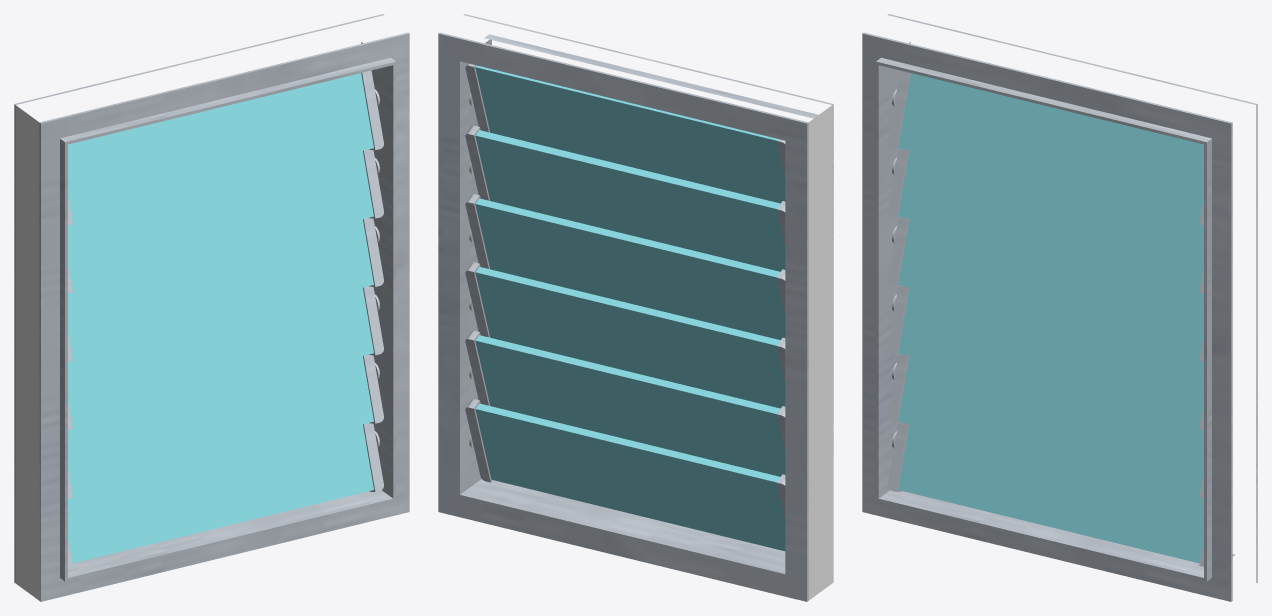
Rendered from Louvered-new.glb.
3 views of the same model, side by side, from view 1: azimuth 30°, elevation 25°; view 2: azimuth 150°, elevation 25°; view 3: azimuth 330°, elevation 25° (orthographic).
Visible parts, largest first — view 1: Mesh37 Ghiera_finestra_porta1 Model, Mesh38 Model, Mesh33 Vetro_porta11 Vetro_porta_completo11 Group1 Model, Mesh36 Vetro_porta12 Vetro_porta_completo12 Group1 Model, Mesh9 Vetro_porta3 Vetro_porta_completo3 Group1 Model, Mesh3 Vetro_porta1 Vetro_porta_completo1 Group1 Model, Mesh12 Vetro_porta4 Vetro_porta_completo4 Group1 Model, Mesh27 Vetro_porta9 Vetro_porta_completo9 Group1 Model, Mesh18 Vetro_porta6 Vetro_porta_completo6 Group1 Model, Mesh15 Vetro_porta5 Vetro_porta_completo5 Group1 Model, Mesh21 Vetro_porta7 Vetro_porta_completo7 Group1 Model, Mesh24 Vetro_porta8 Vetro_porta_completo8 Group1 Model (+8 smaller); view 2: Mesh37 Ghiera_finestra_porta1 Model, Mesh38 Model, Mesh9 Vetro_porta3 Vetro_porta_completo3 Group1 Model, Mesh6 Vetro_porta2 Vetro_porta_completo2 Group1 Model, Mesh3 Vetro_porta1 Vetro_porta_completo1 Group1 Model, Mesh12 Vetro_porta4 Vetro_porta_completo4 Group1 Model, Mesh18 Vetro_porta6 Vetro_porta_completo6 Group1 Model, Mesh27 Vetro_porta9 Vetro_porta_completo9 Group1 Model, Mesh24 Vetro_porta8 Vetro_porta_completo8 Group1 Model, Mesh21 Vetro_porta7 Vetro_porta_completo7 Group1 Model, Mesh30 Vetro_porta10 Vetro_porta_completo10 Group1 Model, Mesh15 Vetro_porta5 Vetro_porta_completo5 Group1 Model (+8 smaller); view 3: Mesh37 Ghiera_finestra_porta1 Model, Mesh36 Vetro_porta12 Vetro_porta_completo12 Group1 Model, Mesh33 Vetro_porta11 Vetro_porta_completo11 Group1 Model, Mesh6 Vetro_porta2 Vetro_porta_completo2 Group1 Model, Mesh15 Vetro_porta5 Vetro_porta_completo5 Group1 Model, Mesh30 Vetro_porta10 Vetro_porta_completo10 Group1 Model, Mesh24 Vetro_porta8 Vetro_porta_completo8 Group1 Model, Mesh21 Vetro_porta7 Vetro_porta_completo7 Group1 Model, Mesh12 Vetro_porta4 Vetro_porta_completo4 Group1 Model, Mesh18 Vetro_porta6 Vetro_porta_completo6 Group1 Model, Mesh27 Vetro_porta9 Vetro_porta_completo9 Group1 Model, Mesh3 Vetro_porta1 Vetro_porta_completo1 Group1 Model (+7 smaller).
Boxes of the visible parts, bbox=[...] form: Mesh37 Ghiera_finestra_porta1 Model: bbox=[14, 14, 409, 601]; Mesh38 Model: bbox=[15, 105, 40, 601]; Mesh33 Vetro_porta11 Vetro_porta_completo11 Group1 Model: bbox=[210, 73, 373, 184]; Mesh36 Vetro_porta12 Vetro_porta_completo12 Group1 Model: bbox=[68, 110, 222, 221]; Mesh9 Vetro_porta3 Vetro_porta_completo3 Group1 Model: bbox=[211, 424, 373, 526]; Mesh3 Vetro_porta1 Vetro_porta_completo1 Group1 Model: bbox=[211, 287, 373, 389]; Mesh12 Vetro_porta4 Vetro_porta_completo4 Group1 Model: bbox=[211, 219, 373, 321]; Mesh27 Vetro_porta9 Vetro_porta_completo9 Group1 Model: bbox=[211, 356, 373, 458]; Mesh18 Vetro_porta6 Vetro_porta_completo6 Group1 Model: bbox=[211, 151, 373, 253]; Mesh15 Vetro_porta5 Vetro_porta_completo5 Group1 Model: bbox=[68, 256, 222, 358]; Mesh21 Vetro_porta7 Vetro_porta_completo7 Group1 Model: bbox=[68, 188, 222, 289]; Mesh24 Vetro_porta8 Vetro_porta_completo8 Group1 Model: bbox=[68, 393, 222, 494]; Mesh37 Ghiera_finestra_porta1 Model: bbox=[438, 14, 833, 601]; Mesh38 Model: bbox=[808, 105, 833, 600]; Mesh9 Vetro_porta3 Vetro_porta_completo3 Group1 Model: bbox=[475, 403, 642, 516]; Mesh6 Vetro_porta2 Vetro_porta_completo2 Group1 Model: bbox=[626, 440, 785, 551]; Mesh3 Vetro_porta1 Vetro_porta_completo1 Group1 Model: bbox=[475, 267, 641, 374]; Mesh12 Vetro_porta4 Vetro_porta_completo4 Group1 Model: bbox=[475, 198, 641, 306]; Mesh18 Vetro_porta6 Vetro_porta_completo6 Group1 Model: bbox=[475, 130, 641, 237]; Mesh27 Vetro_porta9 Vetro_porta_completo9 Group1 Model: bbox=[475, 335, 641, 442]; Mesh24 Vetro_porta8 Vetro_porta_completo8 Group1 Model: bbox=[626, 372, 785, 476]; Mesh21 Vetro_porta7 Vetro_porta_completo7 Group1 Model: bbox=[626, 167, 785, 271]; Mesh30 Vetro_porta10 Vetro_porta_completo10 Group1 Model: bbox=[626, 303, 785, 408]; Mesh15 Vetro_porta5 Vetro_porta_completo5 Group1 Model: bbox=[626, 235, 785, 339]; Mesh37 Ghiera_finestra_porta1 Model: bbox=[862, 14, 1257, 601]; Mesh36 Vetro_porta12 Vetro_porta_completo12 Group1 Model: bbox=[898, 73, 1061, 184]; Mesh33 Vetro_porta11 Vetro_porta_completo11 Group1 Model: bbox=[1049, 110, 1203, 221]; Mesh6 Vetro_porta2 Vetro_porta_completo2 Group1 Model: bbox=[898, 424, 1060, 526]; Mesh15 Vetro_porta5 Vetro_porta_completo5 Group1 Model: bbox=[898, 219, 1060, 321]; Mesh30 Vetro_porta10 Vetro_porta_completo10 Group1 Model: bbox=[898, 287, 1060, 389]; Mesh24 Vetro_porta8 Vetro_porta_completo8 Group1 Model: bbox=[898, 356, 1060, 458]; Mesh21 Vetro_porta7 Vetro_porta_completo7 Group1 Model: bbox=[898, 151, 1060, 253]; Mesh12 Vetro_porta4 Vetro_porta_completo4 Group1 Model: bbox=[1049, 256, 1203, 358]; Mesh18 Vetro_porta6 Vetro_porta_completo6 Group1 Model: bbox=[1049, 188, 1203, 289]; Mesh27 Vetro_porta9 Vetro_porta_completo9 Group1 Model: bbox=[1049, 393, 1203, 494]; Mesh3 Vetro_porta1 Vetro_porta_completo1 Group1 Model: bbox=[1049, 324, 1203, 426].
Bounding box in the file's own units: 24 × 29.75 × 3.6.
Materials: 3 (1 with a texture image).
